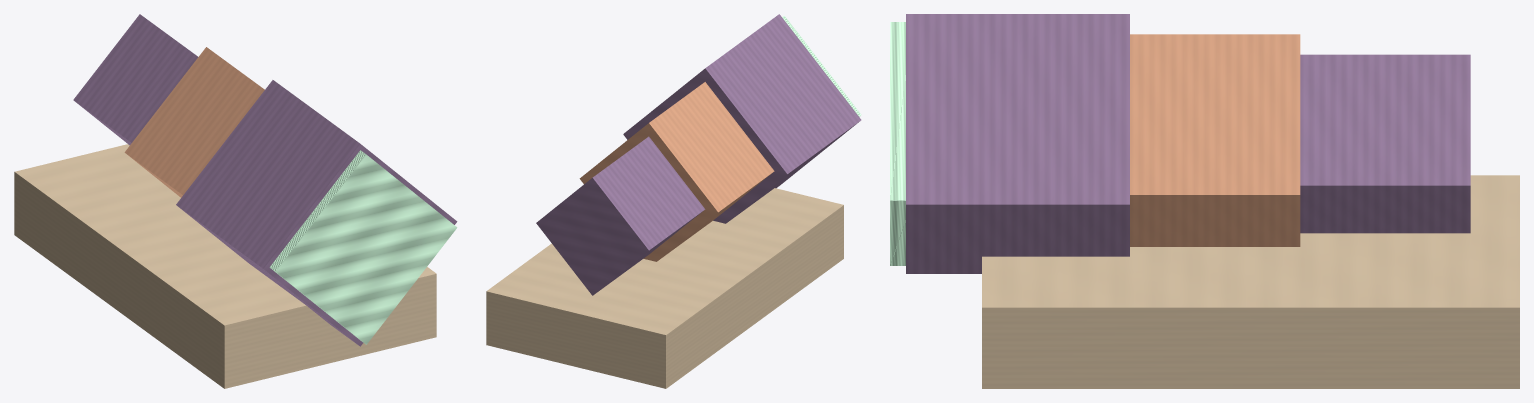
Rendered from atlas100-s081-a05.glb.
The picture shows the model from 3 angles, left to right: view 1: azimuth 30°, elevation 25°; view 2: azimuth 150°, elevation 25°; view 3: azimuth 270°, elevation 25°; orthographic projection. The views are drawn at different scales.
Parts seen in each view (by area): view 1: atlas100-s081-a05:part-004, atlas100-s081-a05:part-002, atlas100-s081-a05:part-003, atlas100-s081-a05:part-001, atlas100-s081-a05:part-000; view 2: atlas100-s081-a05:part-004, atlas100-s081-a05:part-002, atlas100-s081-a05:part-000, atlas100-s081-a05:part-001, atlas100-s081-a05:part-003; view 3: atlas100-s081-a05:part-004, atlas100-s081-a05:part-002, atlas100-s081-a05:part-001, atlas100-s081-a05:part-000, atlas100-s081-a05:part-003.
Part boxes in pixels (x1=…): atlas100-s081-a05:part-004: x1=14, y1=144, x2=436, y2=388; atlas100-s081-a05:part-002: x1=176, y1=80, x2=457, y2=346; atlas100-s081-a05:part-003: x1=269, y1=150, x2=457, y2=344; atlas100-s081-a05:part-001: x1=124, y1=47, x2=264, y2=197; atlas100-s081-a05:part-000: x1=73, y1=14, x2=197, y2=145; atlas100-s081-a05:part-004: x1=486, y1=188, x2=843, y2=388; atlas100-s081-a05:part-002: x1=623, y1=14, x2=861, y2=223; atlas100-s081-a05:part-000: x1=536, y1=136, x2=705, y2=295; atlas100-s081-a05:part-001: x1=579, y1=82, x2=774, y2=261; atlas100-s081-a05:part-003: x1=782, y1=16, x2=861, y2=116; atlas100-s081-a05:part-004: x1=982, y1=175, x2=1519, y2=388; atlas100-s081-a05:part-002: x1=906, y1=14, x2=1129, y2=273; atlas100-s081-a05:part-001: x1=1130, y1=34, x2=1300, y2=246; atlas100-s081-a05:part-000: x1=1300, y1=54, x2=1470, y2=233; atlas100-s081-a05:part-003: x1=890, y1=22, x2=905, y2=265.
Size of the model in its own units: 0.3822 by 0.415 by 0.7671.
Materials: 4 (4 with a texture image).
